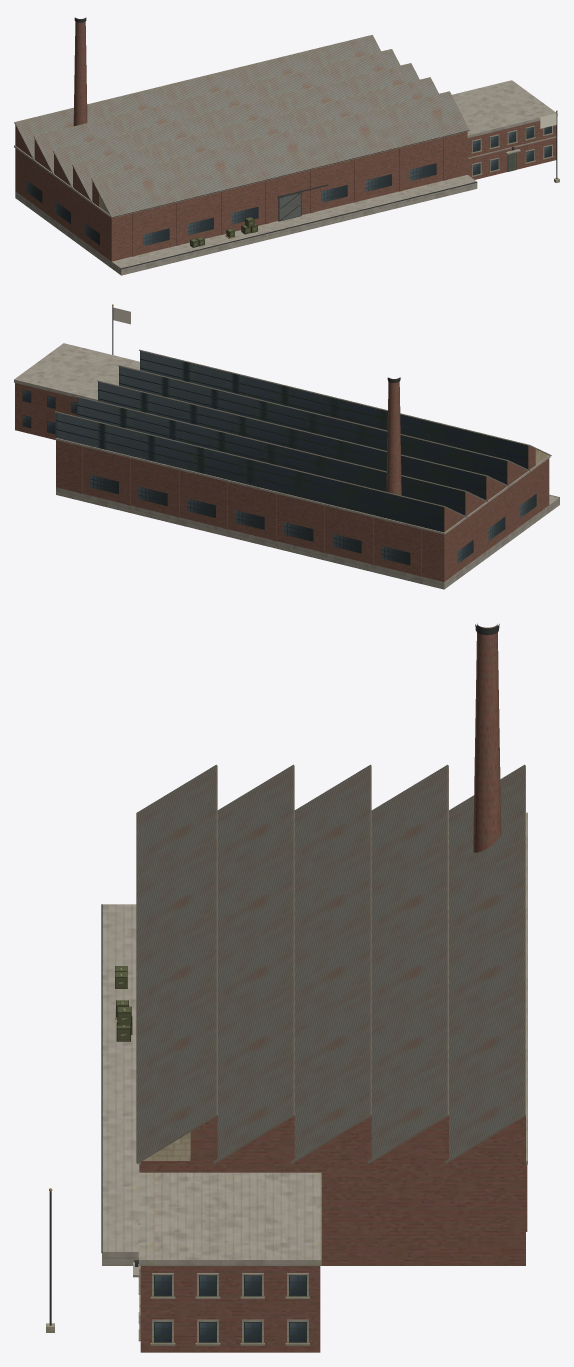
The model's file is arsenal.glb.
The picture shows the model from 3 angles, top to bottom: view 1: azimuth 30°, elevation 25°; view 2: azimuth 150°, elevation 25°; view 3: azimuth 270°, elevation 25°; orthographic projection. The views are drawn at different scales.
Parts seen in each view (by area): view 1: murs, bureaux, quai, porte; view 2: murs, bureaux; view 3: murs, bureaux, quai.
Boxes of the visible parts, x1,y1,x2,y2 form: murs: [14, 17, 469, 268]; bureaux: [452, 80, 557, 179]; quai: [111, 175, 477, 275]; porte: [278, 191, 301, 221]; murs: [55, 349, 551, 589]; bureaux: [14, 343, 139, 439]; murs: [136, 623, 527, 1265]; bureaux: [133, 1172, 321, 1352]; quai: [101, 904, 139, 1265].
Bounding box in the file's own units: 80.35 × 30 × 37.5.
12 materials, 10 textured.
